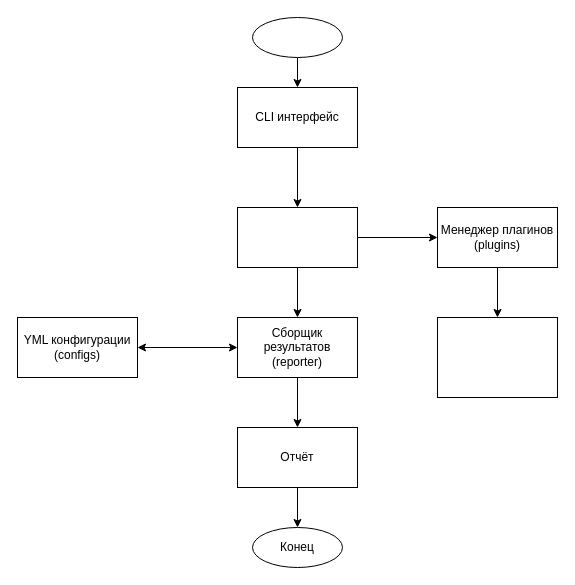
Image size: 575x585. Some labels were removed from this diagram. The shapes that lost their labels are listed below. From the top down, each one's centre as x and y in pixels, then its label:
the point at 297,37: Начало
the point at 297,237: Ядро(Core)
the point at 497,357: PHP JS HTML ...
